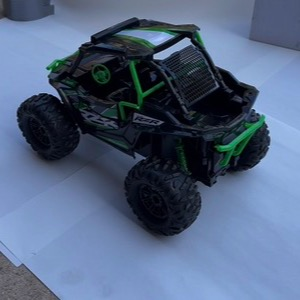polaris: (17, 17, 272, 239)
